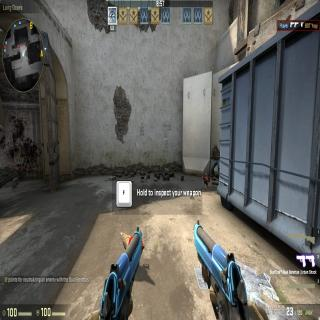T-Body: (210, 144, 221, 180)
T-Head: (213, 144, 218, 152)
